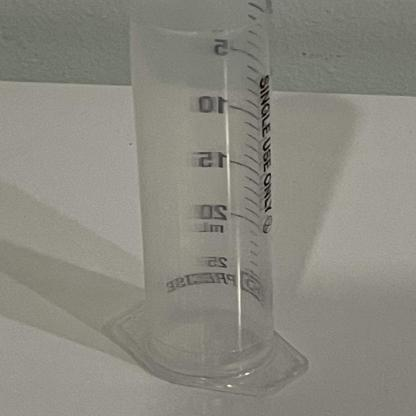dry: (75, 3, 320, 403)
